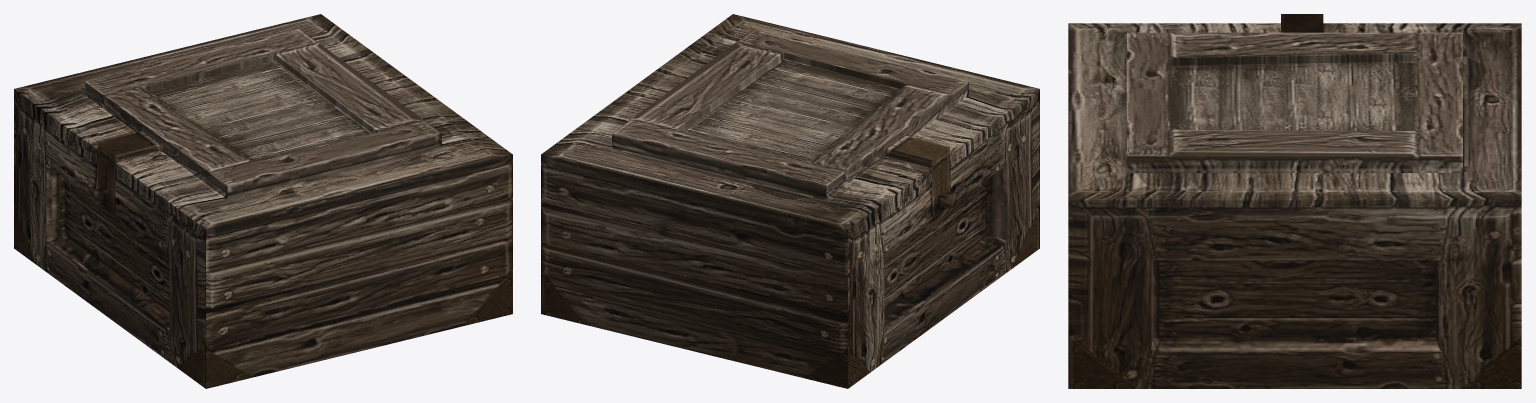
File: SM_Env_Breakables_Box1.FBX
3 views of the same model, side by side, from view 1: azimuth 30°, elevation 25°; view 2: azimuth 150°, elevation 25°; view 3: azimuth 270°, elevation 25° (orthographic). The views are drawn at different scales.
Visible parts, largest first — view 1: SM_Env_Breakables_Box1; view 2: SM_Env_Breakables_Box1; view 3: SM_Env_Breakables_Box1.
Boxes of the visible parts, left/top/right/bottom form: SM_Env_Breakables_Box1: left=14, top=14, right=512, bottom=388; SM_Env_Breakables_Box1: left=541, top=14, right=1039, bottom=388; SM_Env_Breakables_Box1: left=1068, top=14, right=1521, bottom=388.
Size of what is drawn, in the model's own units: 53.63 by 55.29 by 27.68.
